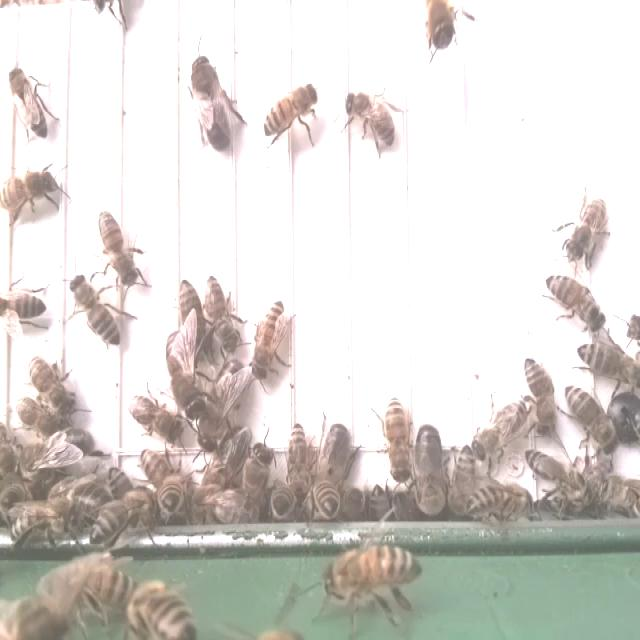Drone: (188, 51, 233, 156), (413, 412, 446, 522)
Worker: (70, 270, 122, 349), (469, 398, 529, 463), (96, 206, 144, 287), (6, 63, 53, 144), (342, 87, 400, 150), (562, 381, 612, 454), (26, 348, 77, 417), (259, 82, 319, 140), (543, 271, 603, 329), (523, 348, 559, 442), (562, 192, 607, 267), (250, 296, 286, 386), (204, 268, 242, 353), (0, 164, 65, 212), (125, 392, 180, 445), (574, 339, 639, 381), (382, 392, 413, 479), (0, 284, 52, 327)
